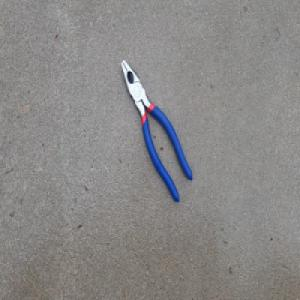Pliers: (120, 58, 194, 204)
